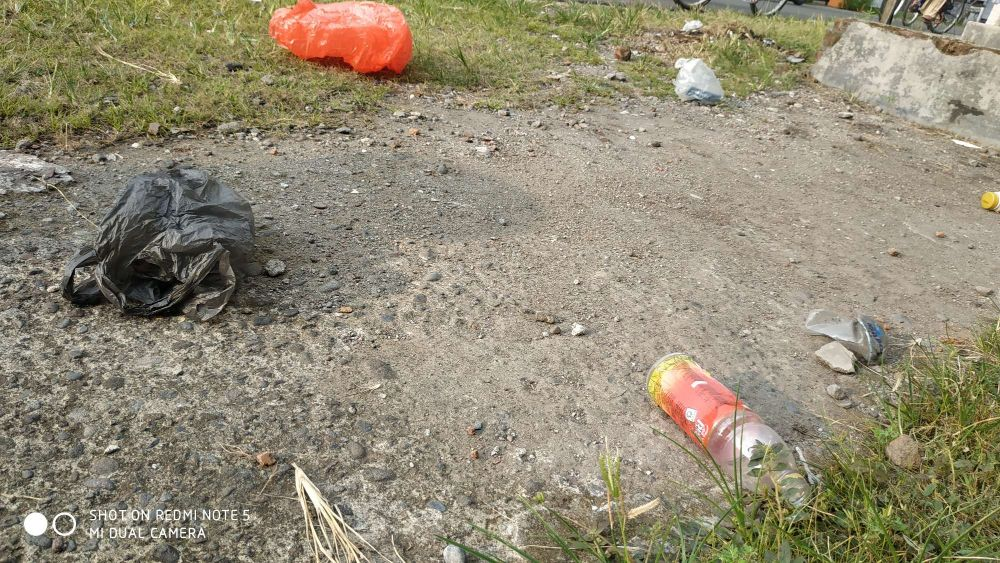botol: (620, 336, 844, 525)
plastik: (41, 113, 255, 328), (255, 2, 427, 74)
